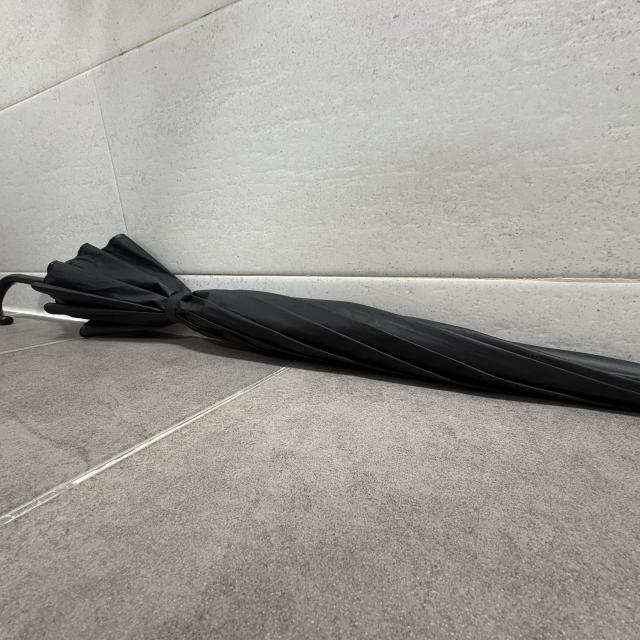umbrella: (0, 235, 640, 414)
